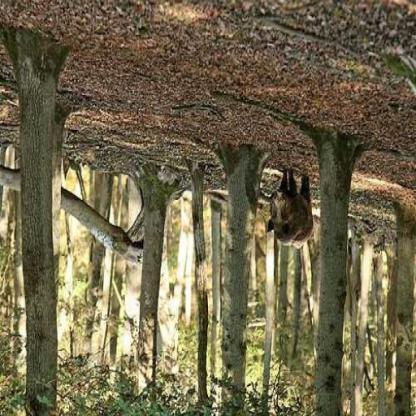boar: (261, 173, 318, 260)
